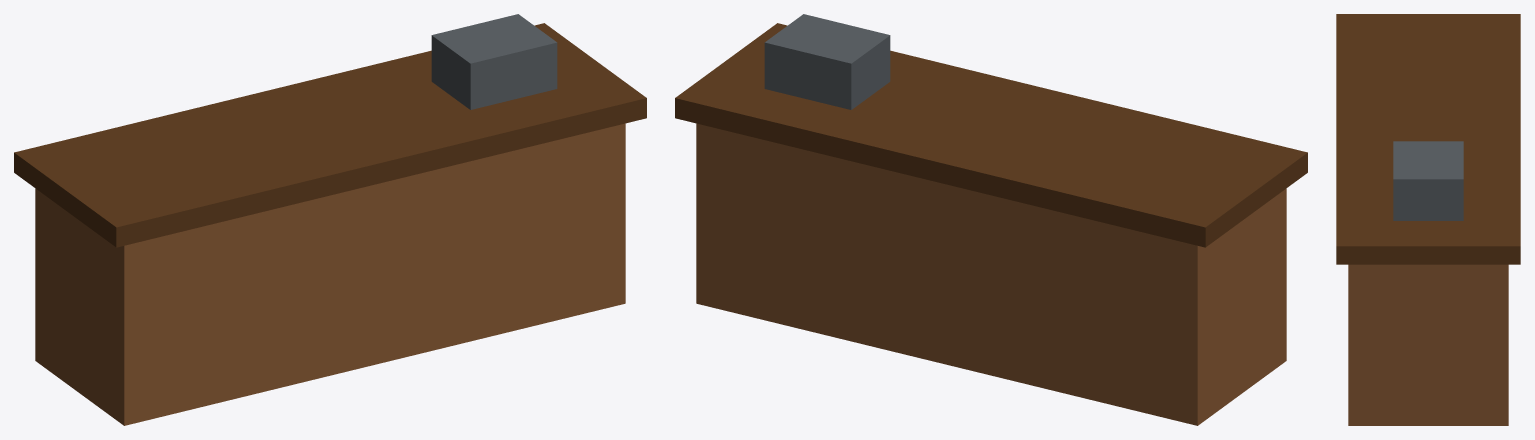
File: mod_counter.glb
3 renders of one model, left to right at view 1: azimuth 30°, elevation 25°; view 2: azimuth 150°, elevation 25°; view 3: azimuth 270°, elevation 25°, orthographic. The views are drawn at different scales.
Parts seen in each view (by area): view 1: Mod_Counter; view 2: Mod_Counter; view 3: Mod_Counter.
Part boxes in pixels (box(x1,y1,x2,y2)): Mod_Counter: box(14, 14, 646, 425); Mod_Counter: box(675, 14, 1307, 425); Mod_Counter: box(1336, 14, 1520, 425).
Bounding box in the file's own units: 2.75 × 1.28 × 0.92.
